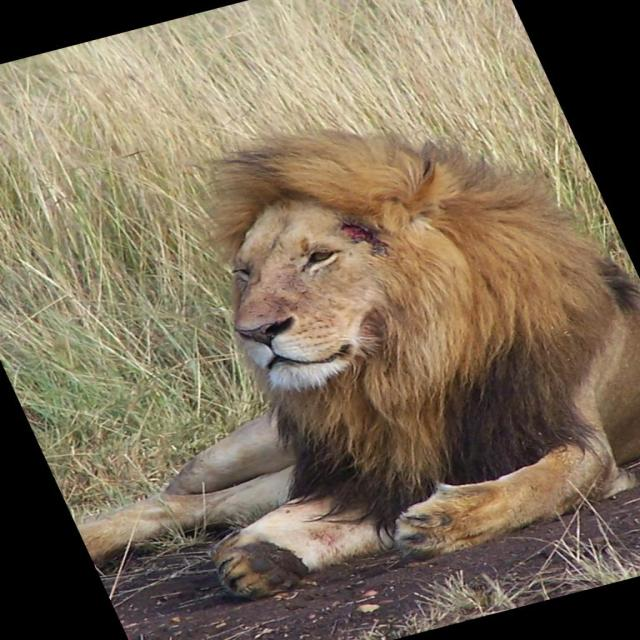Lion: (0, 61, 639, 637)
